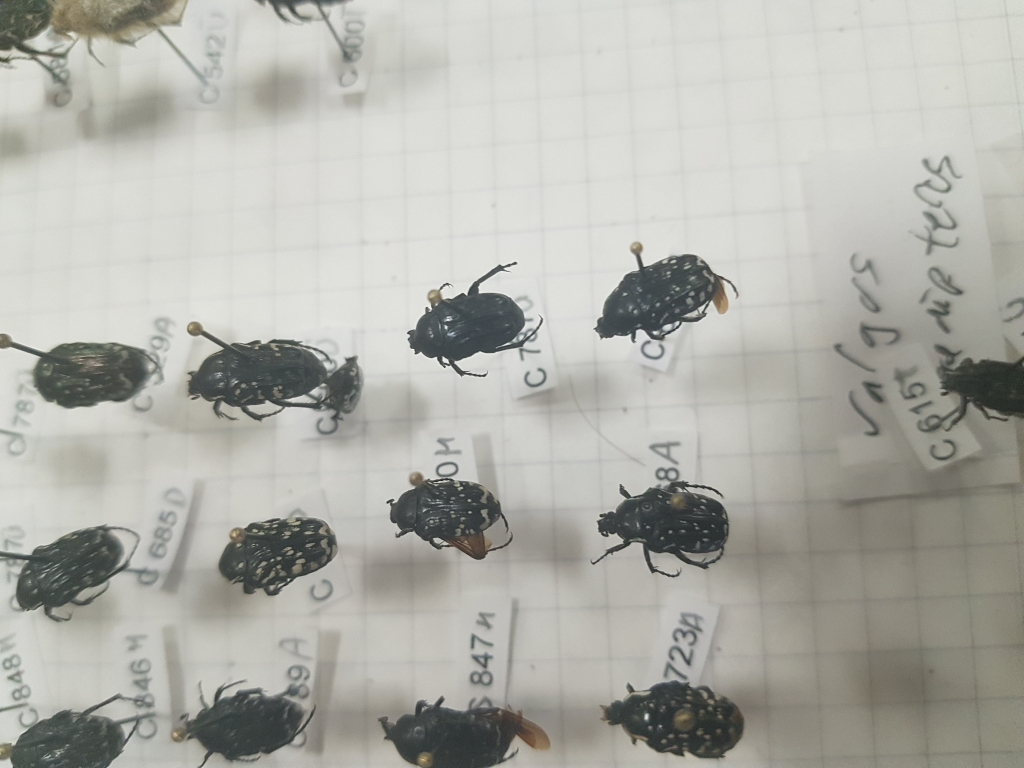Oxythyrea_albopicta: (393, 248, 553, 391), (582, 251, 741, 363), (582, 478, 733, 585), (180, 328, 336, 419), (385, 466, 511, 567), (211, 511, 341, 592)
